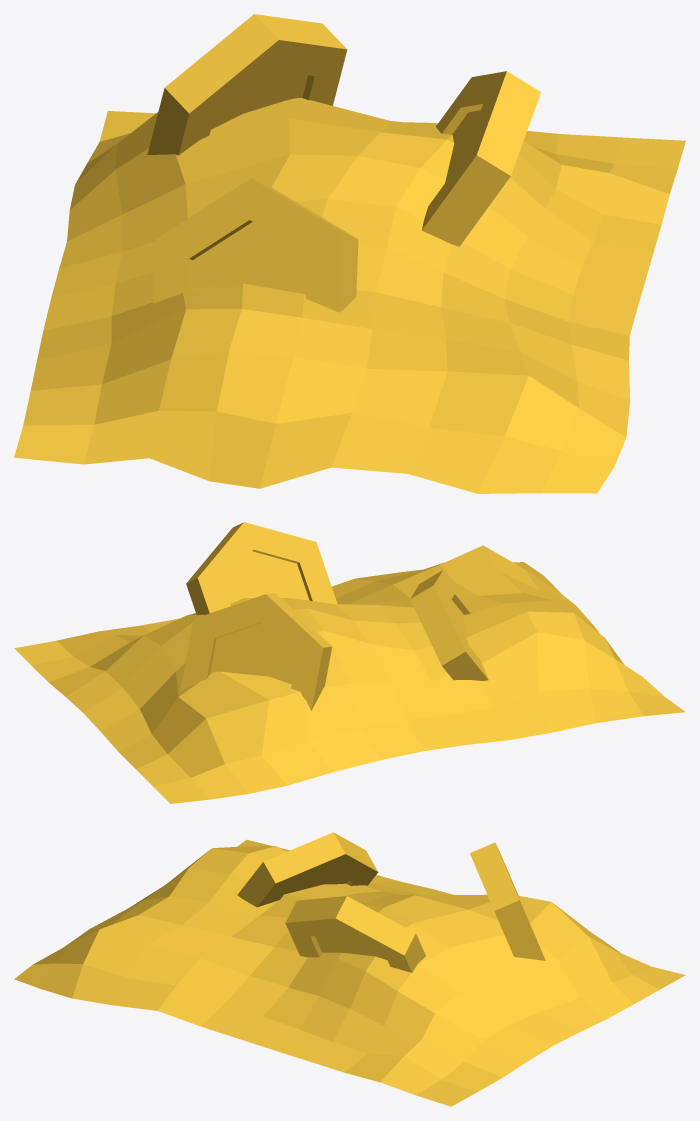
Rendered from n2_chests_gold_yellow_0_lev2.003.glb.
3 views of the same model, one above another, from view 1: azimuth 30°, elevation 25°; view 2: azimuth 150°, elevation 25°; view 3: azimuth 270°, elevation 25° (orthographic). The views are drawn at different scales.
Visible parts, largest first — view 1: n2_chests_gold_yellow_0_lev2.003; view 2: n2_chests_gold_yellow_0_lev2.003; view 3: n2_chests_gold_yellow_0_lev2.003.
Part boxes in pixels (left/top/right/bottom): n2_chests_gold_yellow_0_lev2.003: left=14, top=14, right=685, bottom=493; n2_chests_gold_yellow_0_lev2.003: left=14, top=522, right=685, bottom=803; n2_chests_gold_yellow_0_lev2.003: left=14, top=832, right=685, bottom=1106.
Size of the model in its own units: 1.69 by 0.4698 by 1.79.
